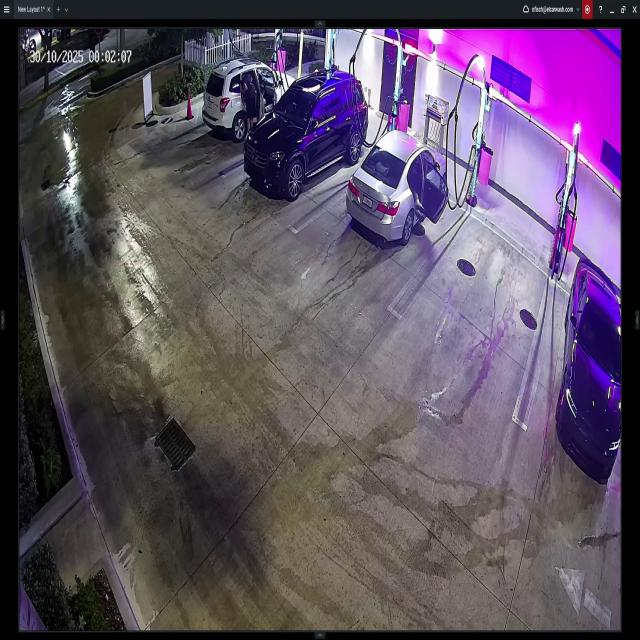Car: (246, 67, 368, 197), (556, 255, 620, 474), (346, 132, 450, 246), (202, 59, 288, 137)
